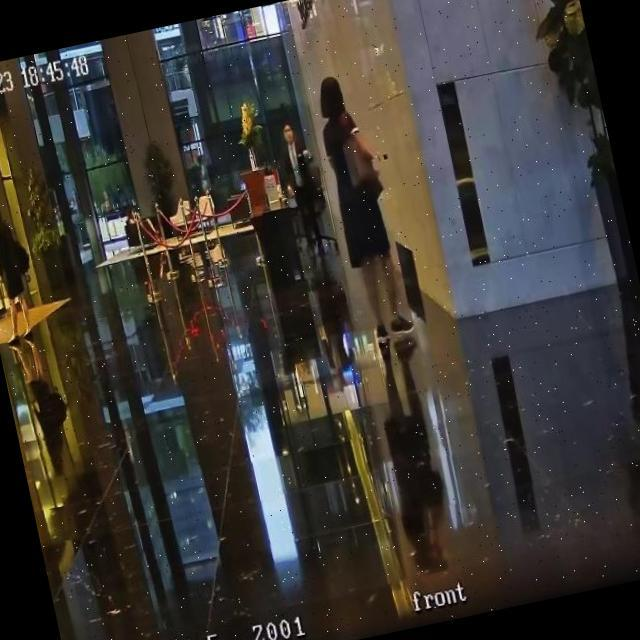person: (308, 68, 418, 347), (271, 117, 334, 260), (0, 196, 44, 341), (124, 200, 164, 252)
